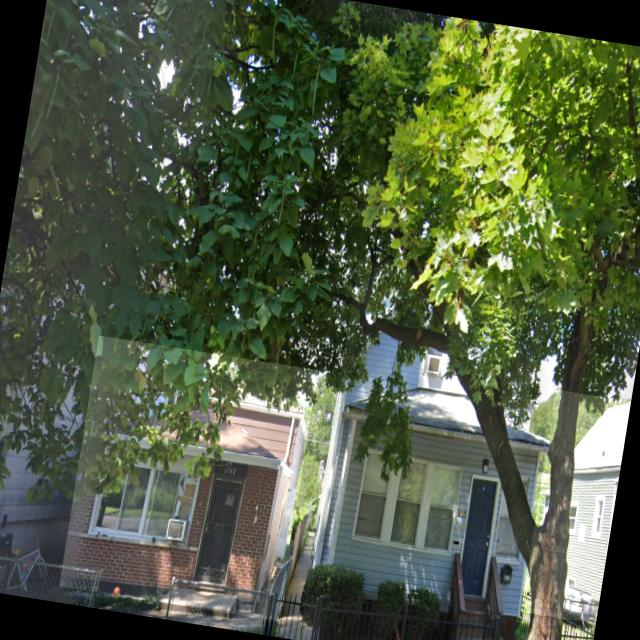House: (298, 259, 571, 640), (59, 336, 318, 622), (521, 390, 631, 624)
